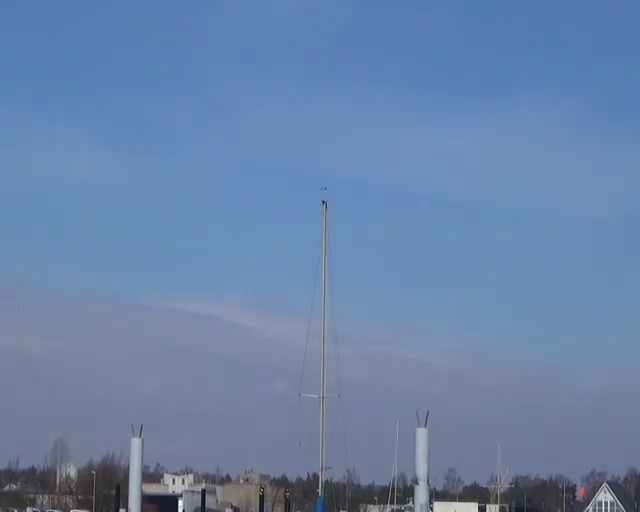BIRD: (78, 358, 89, 372)
